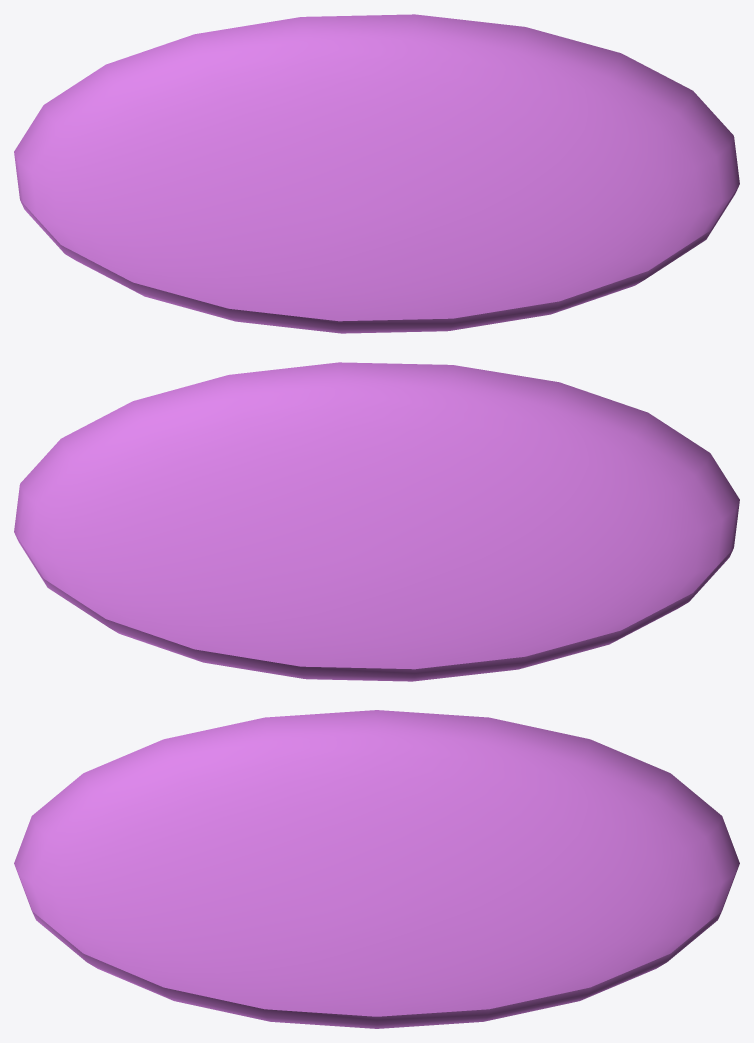
File: stage (1).fbx
3 renders of one model, top to bottom at view 1: azimuth 30°, elevation 25°; view 2: azimuth 150°, elevation 25°; view 3: azimuth 270°, elevation 25°, orthographic.
Parts seen in each view (by area): view 1: stage; view 2: stage; view 3: stage.
Part boxes in pixels (x1,y1,x2,y2): stage: (14,14,739,333); stage: (14,362,739,681); stage: (14,710,739,1028).
Size of the model in its own units: 11.47 by 1.11 by 11.47.
